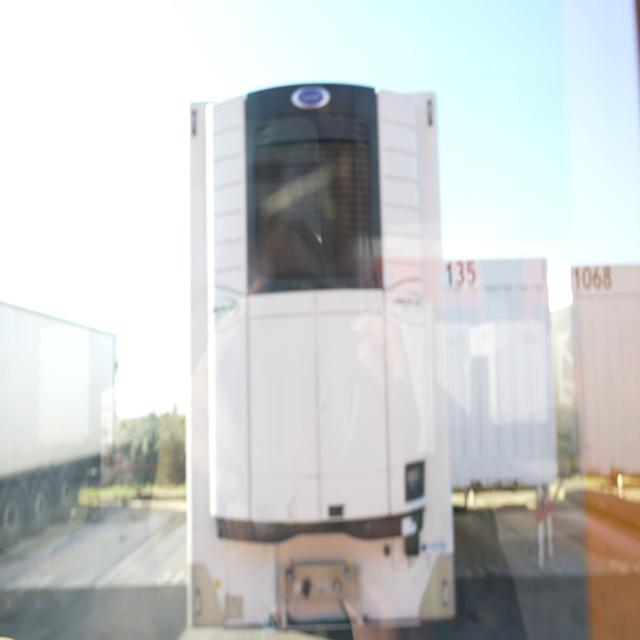Code: (568, 257, 618, 306)
